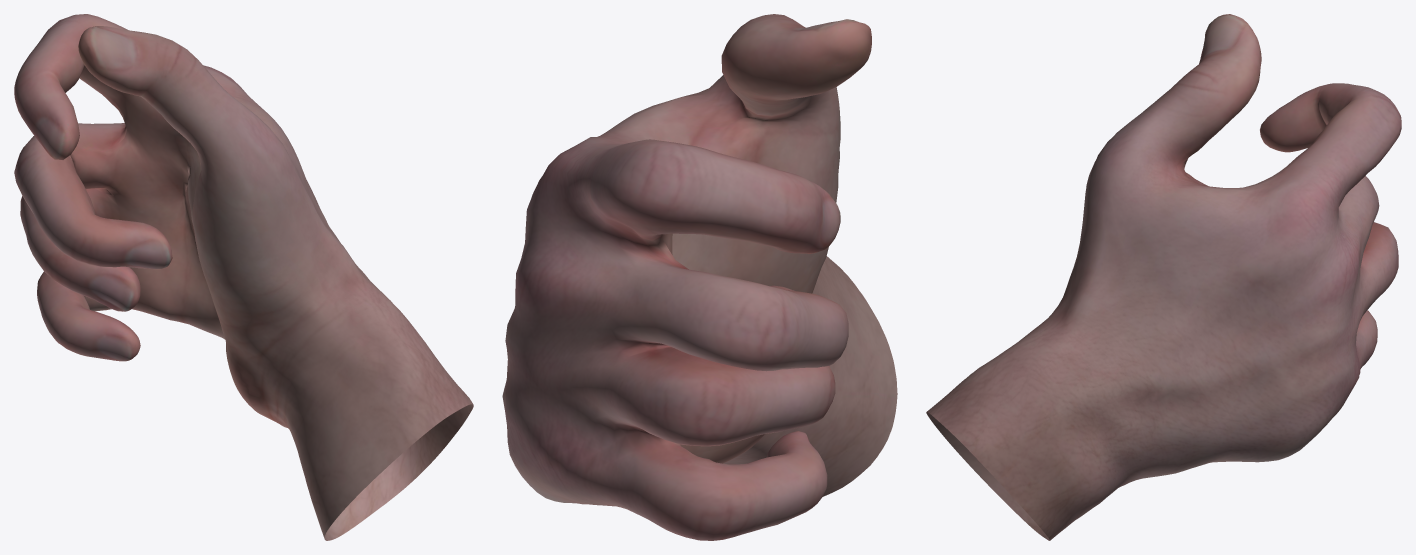
The model's file is right_hand_grip.glb.
The picture shows the model from 3 angles, left to right: view 1: azimuth 30°, elevation 25°; view 2: azimuth 150°, elevation 25°; view 3: azimuth 270°, elevation 25°; orthographic projection. The views are drawn at different scales.
Parts seen in each view (by area): view 1: RightHandGrip; view 2: RightHandGrip; view 3: RightHandGrip.
Boxes of the visible parts, x1,y1,x2,y2 form: RightHandGrip: [14, 14, 473, 540]; RightHandGrip: [502, 14, 897, 540]; RightHandGrip: [926, 14, 1401, 540].
Bounding box in the file's own units: 0.1024 × 0.1657 × 0.1609.
Materials: 1 (1 with a texture image).
